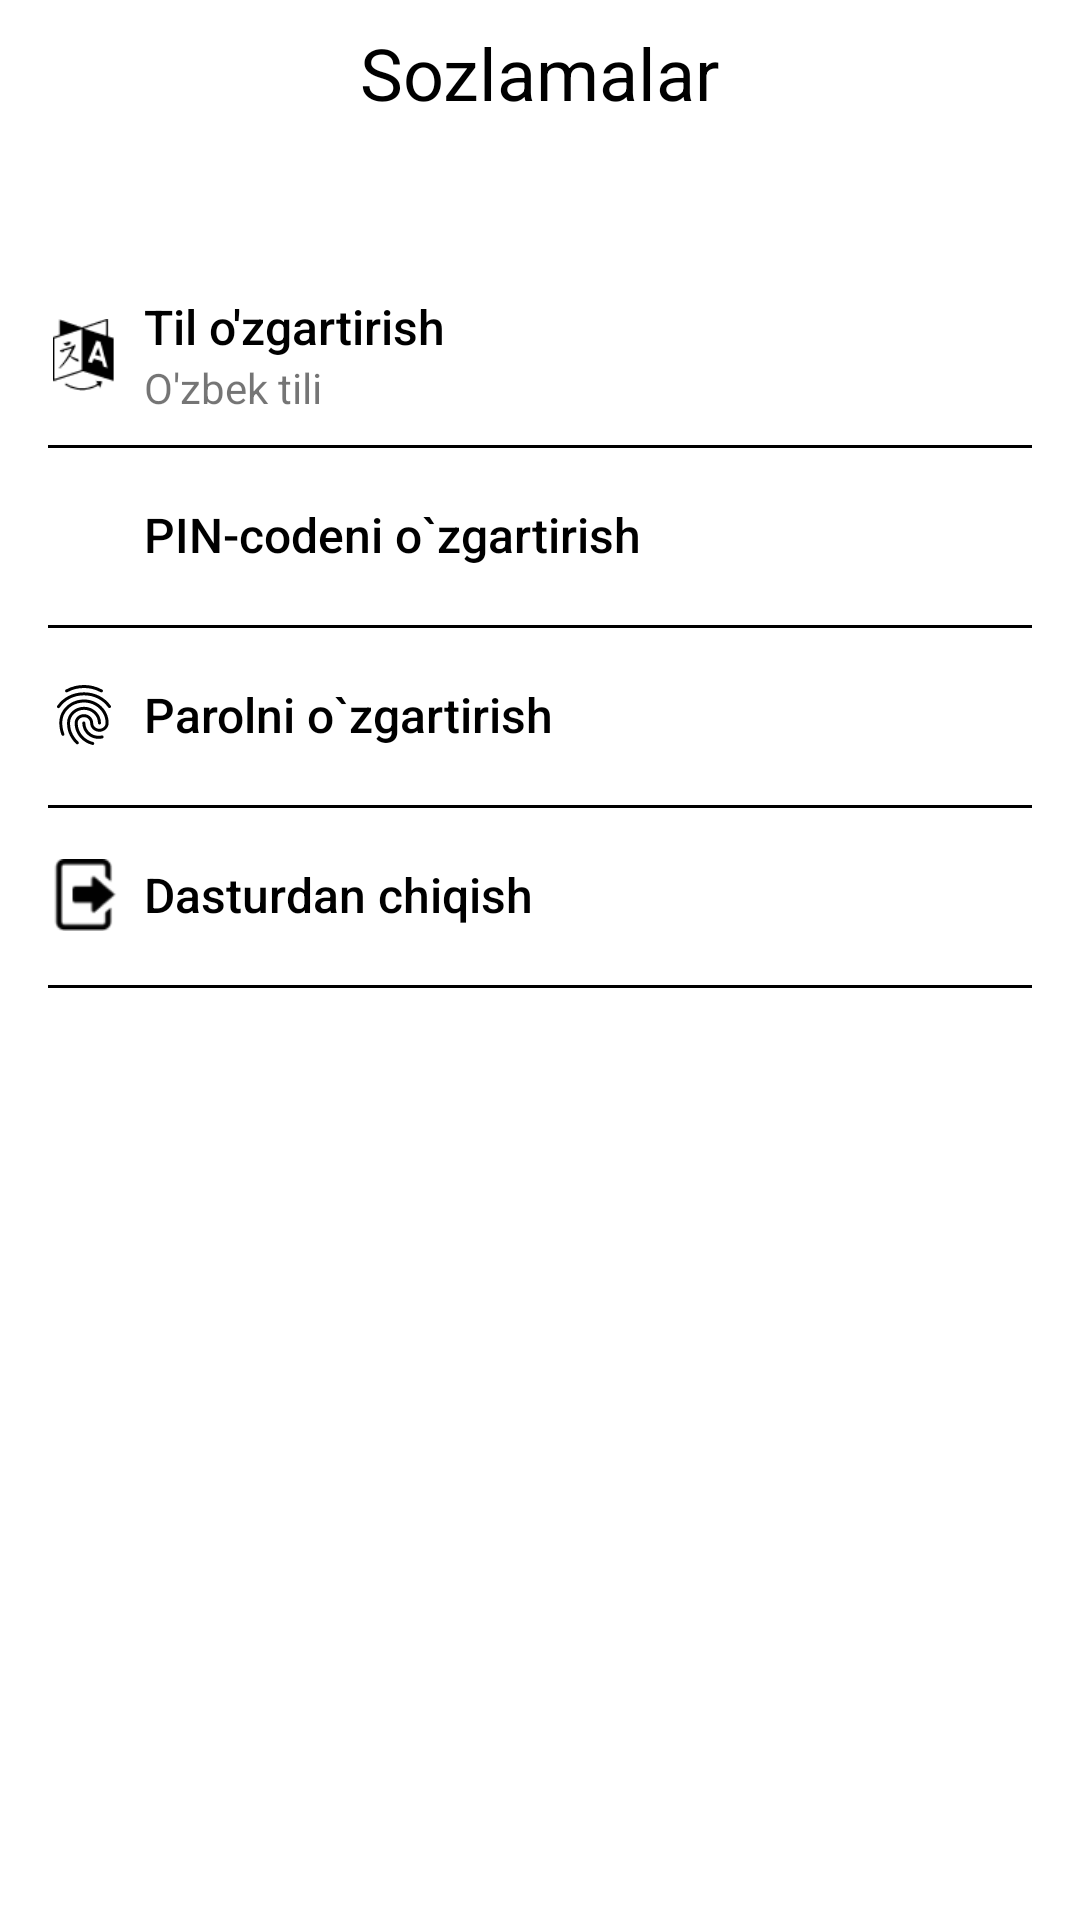

Screen size 1080px x 1920px. Icon name, then its box in pixels as (x1, y1, x2, y2):
fingerprint: (57, 685, 111, 745)
language: (53, 319, 114, 391)
log out: (55, 859, 116, 931)
